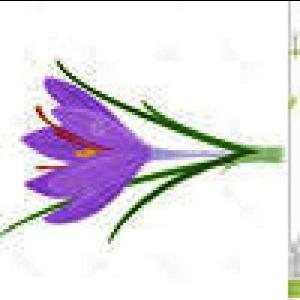Saffron: (22, 76, 157, 224)
